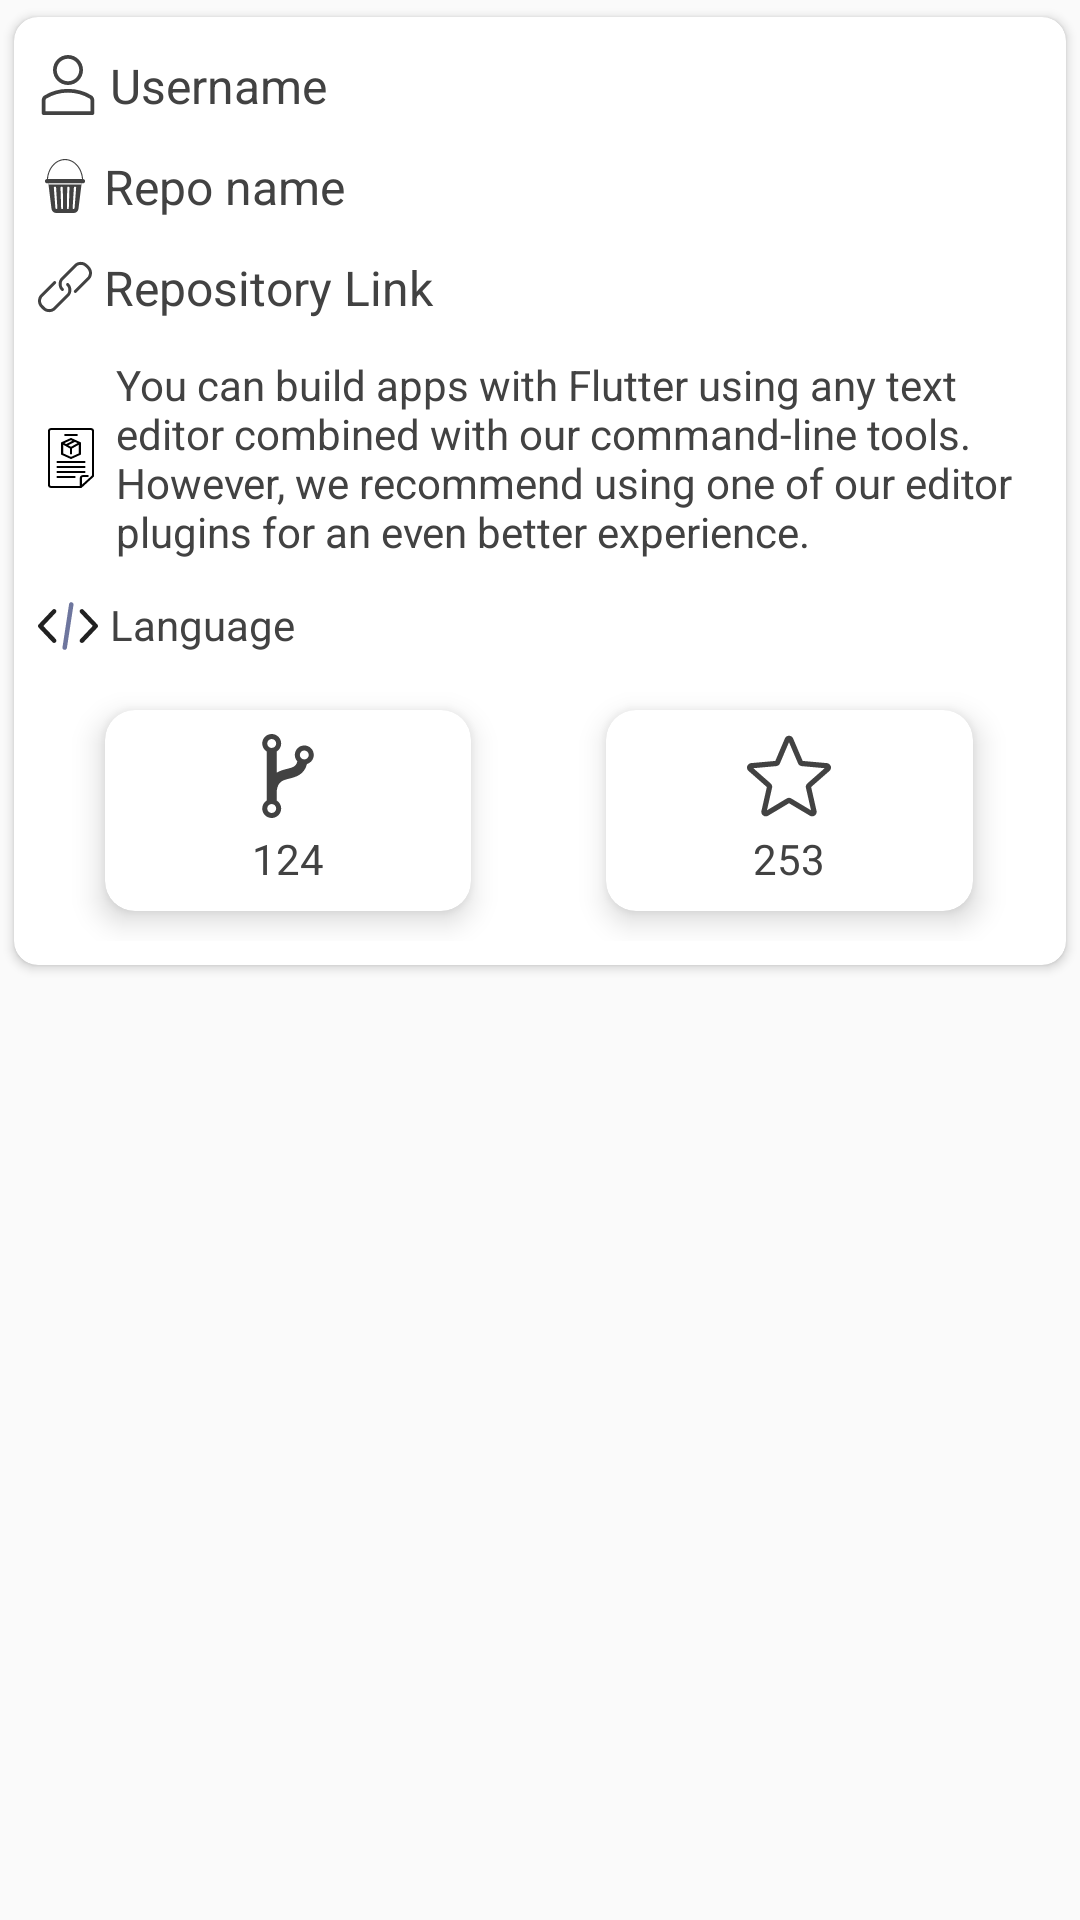

Where icons sit on this 1080x1920 app screen, as (x1, y1, x2, y2):
code fork symbol: (262, 734, 314, 818)
star: (747, 735, 831, 817)
